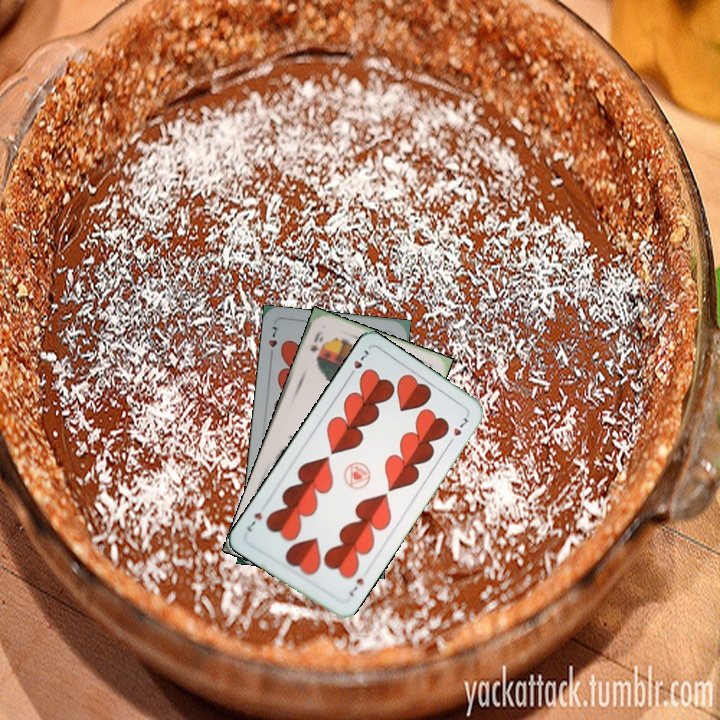H7: (344, 345, 371, 381), (264, 322, 280, 361), (345, 574, 367, 599)
SO: (306, 327, 326, 363)
